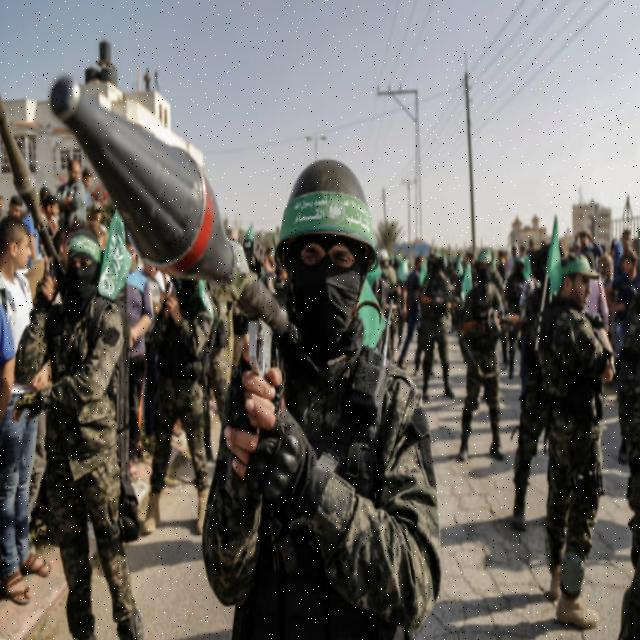bazooka: (36, 55, 337, 370)
